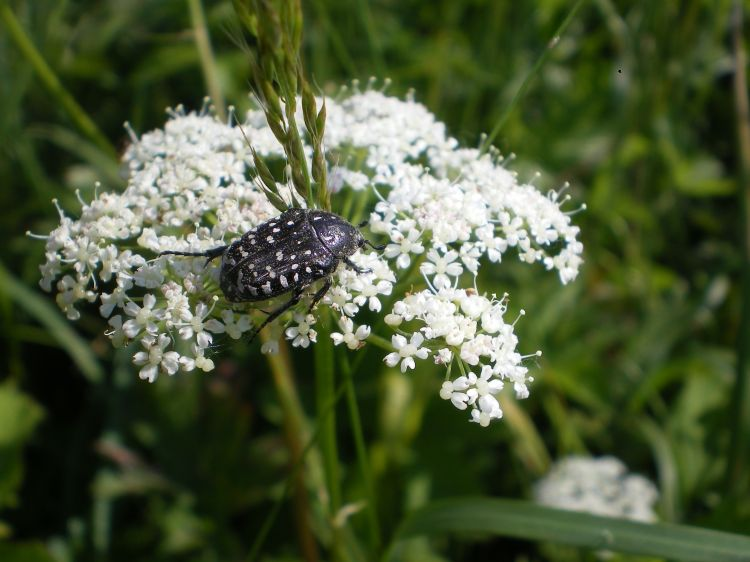Oxythyrea_funesta: (144, 203, 392, 341)
